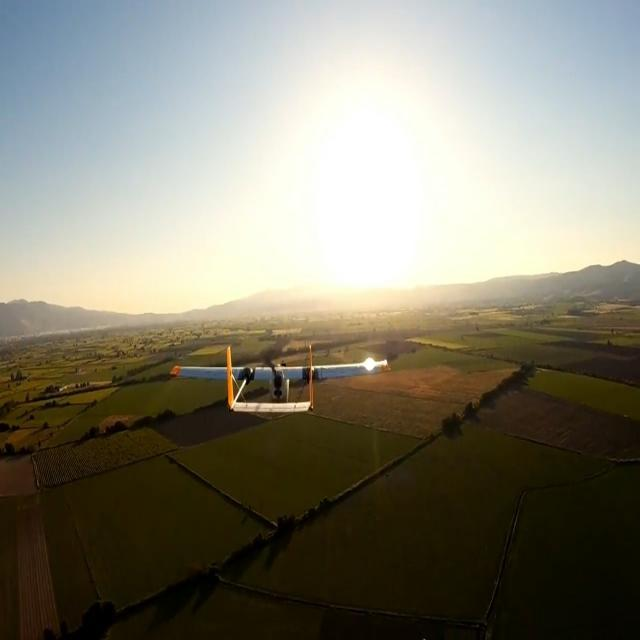iha: (169, 367, 393, 385)
